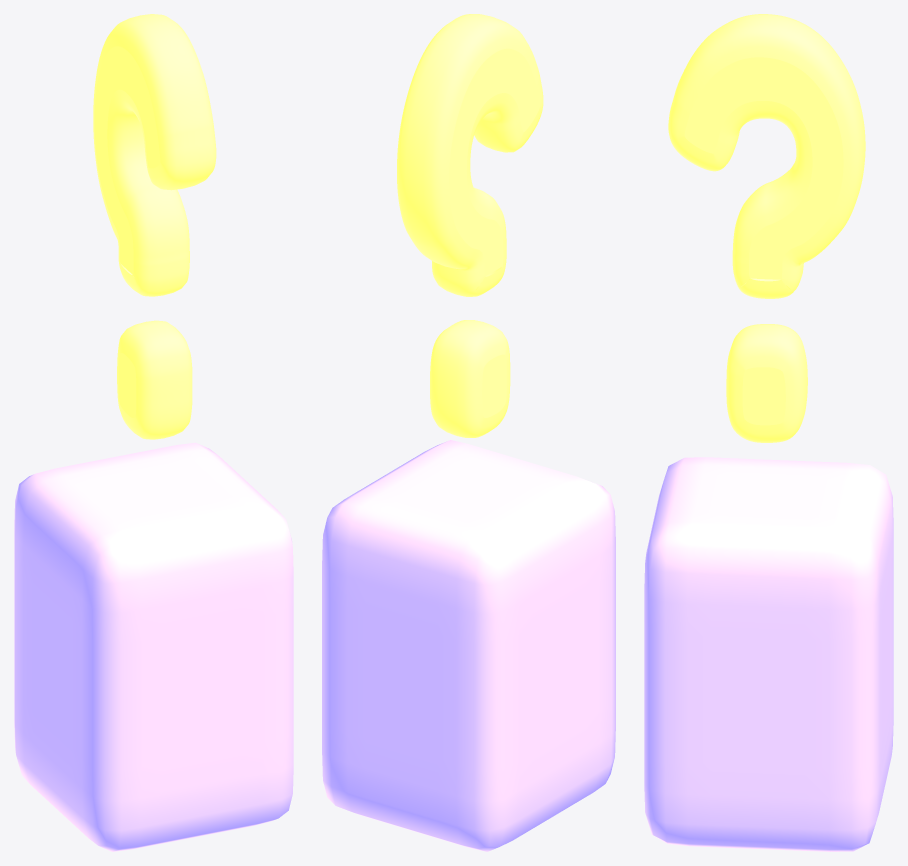
File: animated question mark.fbx
The picture shows the model from 3 angles, left to right: view 1: azimuth 30°, elevation 25°; view 2: azimuth 150°, elevation 25°; view 3: azimuth 270°, elevation 25°; orthographic projection.
Visible parts, largest first — view 1: QuestionMark; view 2: QuestionMark; view 3: QuestionMark.
Boxes of the visible parts, box(x1,y1,x2,y2) form: QuestionMark: box(14, 14, 293, 851); QuestionMark: box(322, 14, 615, 851); QuestionMark: box(644, 14, 893, 851).
Size of the model in its own units: 174 by 636 by 181.
